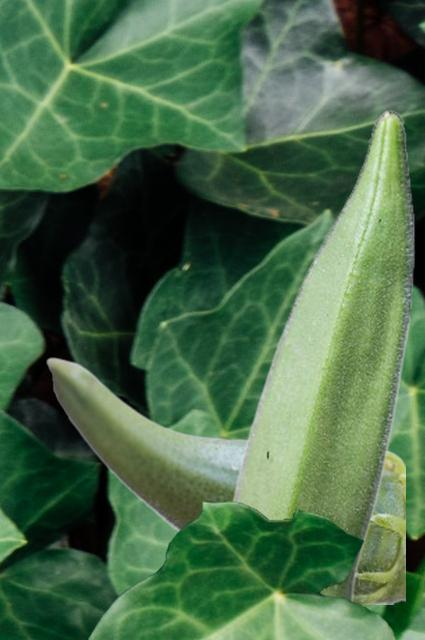okra: (229, 109, 414, 601), (45, 356, 404, 603)
